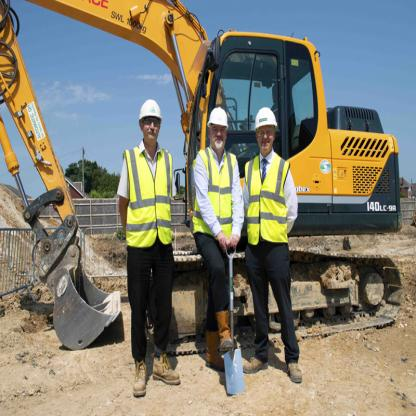person: (113, 83, 192, 402), (240, 92, 317, 391), (189, 80, 244, 396)
